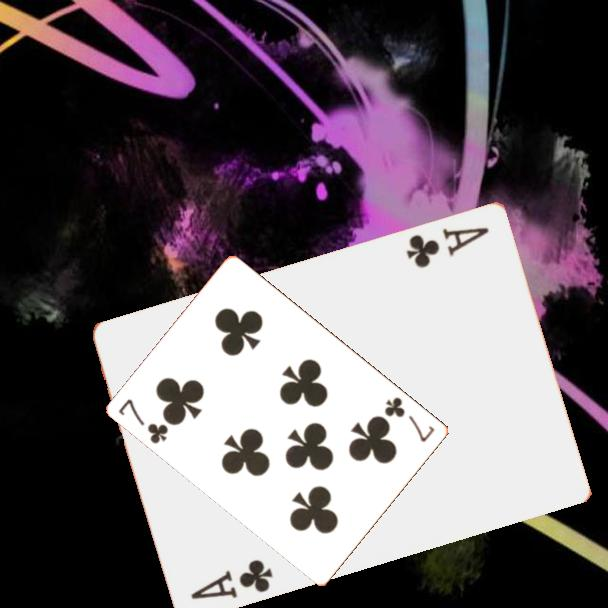c01: (403, 223, 492, 270), (187, 555, 276, 602)
c07: (381, 393, 438, 445), (115, 395, 172, 447)
